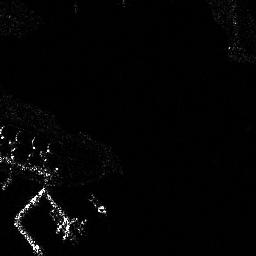ship: (85, 193, 108, 215)
